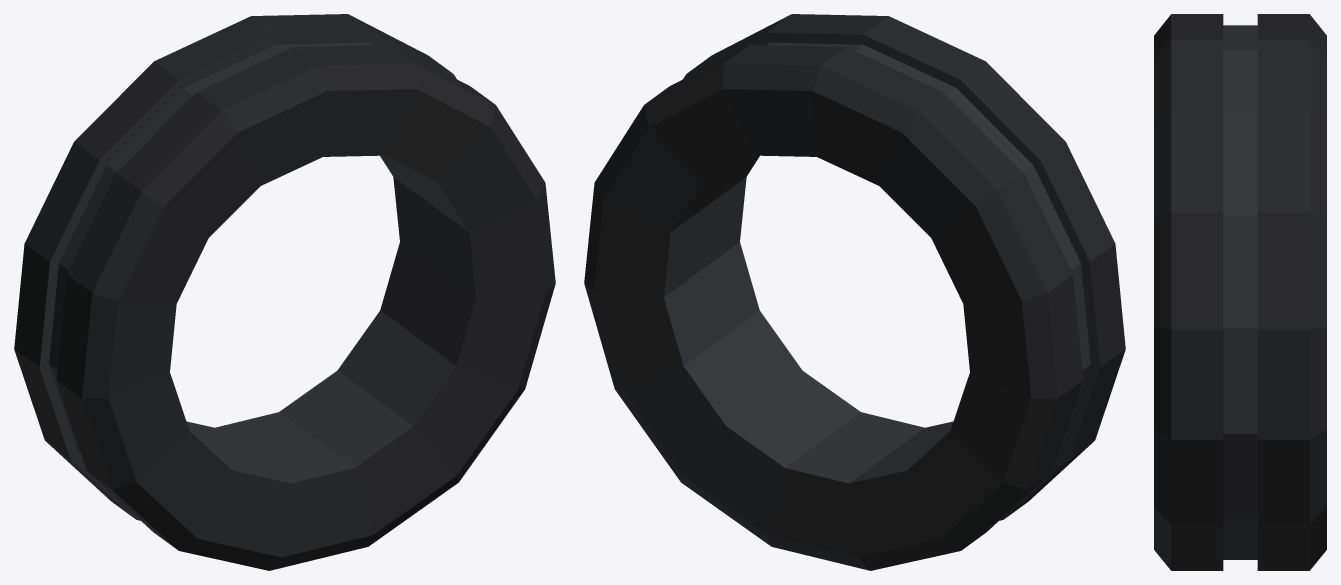
The model's file is SM_Workshop_Tyre_01.fbx.
3 views of the same model, side by side, from view 1: azimuth 30°, elevation 25°; view 2: azimuth 150°, elevation 25°; view 3: azimuth 270°, elevation 25° (orthographic). The views are drawn at different scales.
Parts seen in each view (by area): view 1: SM_Workshop_Tyre_01; view 2: SM_Workshop_Tyre_01; view 3: SM_Workshop_Tyre_01.
Part boxes in pixels (x1=…): SM_Workshop_Tyre_01: x1=14, y1=14, x2=555, y2=570; SM_Workshop_Tyre_01: x1=584, y1=14, x2=1125, y2=570; SM_Workshop_Tyre_01: x1=1154, y1=14, x2=1326, y2=570.
Size of what is drawn, in the model's own units: 0.6464 by 0.6429 by 0.2.
Materials: 1 (1 with a texture image).
